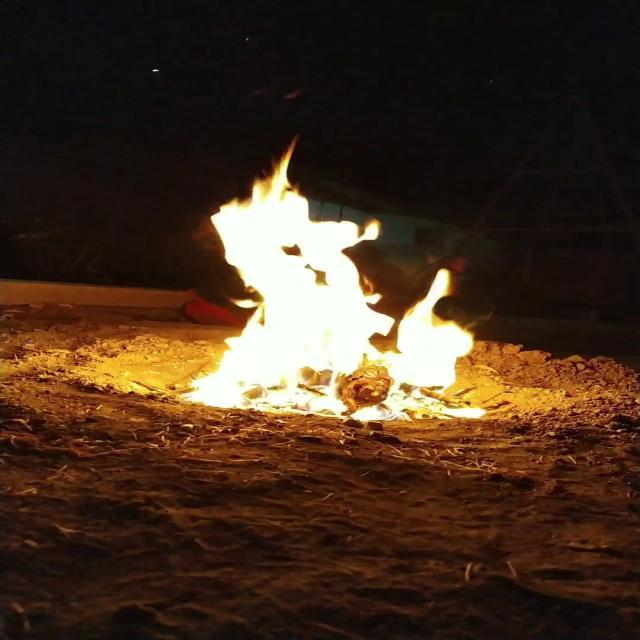Fire: (176, 132, 492, 420)
